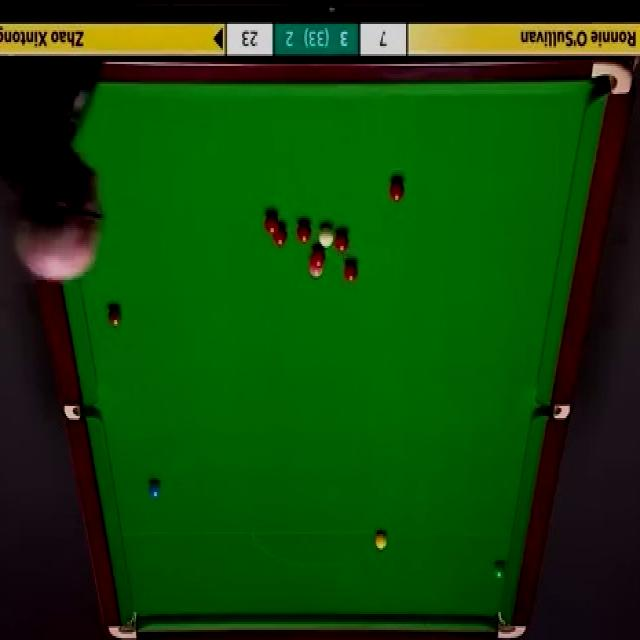pocket: (590, 58, 633, 97), (108, 608, 140, 640), (493, 611, 528, 640), (63, 403, 100, 422), (536, 402, 571, 422)
